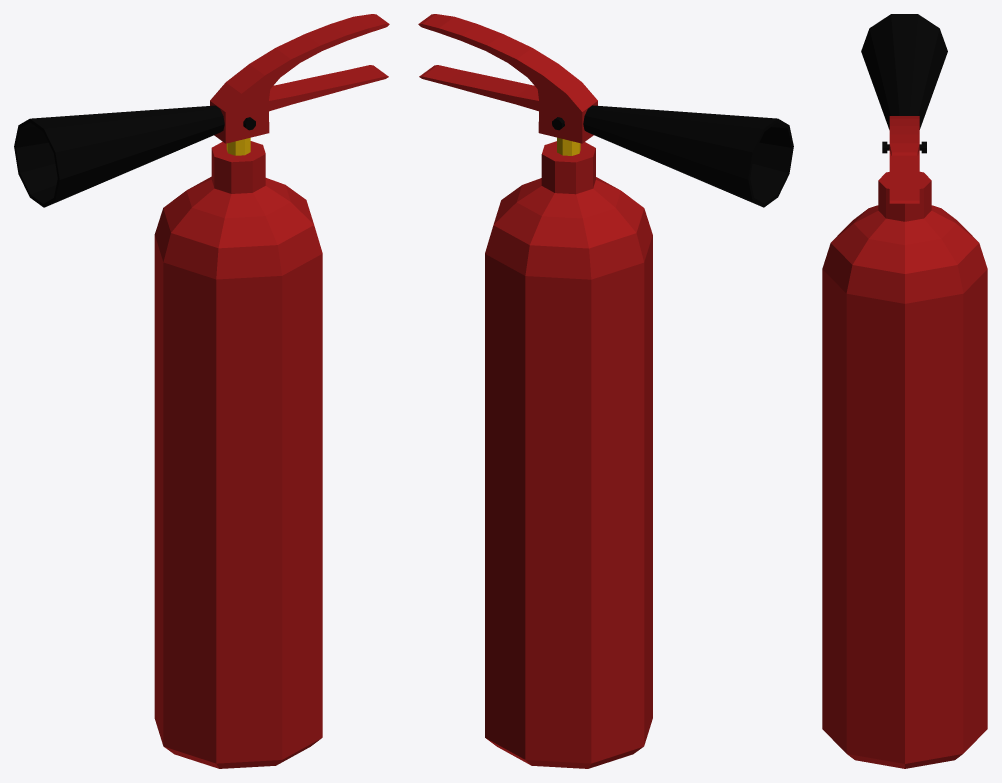
Rendered from fire_safty.fbx.
3 views of the same model, side by side, from view 1: azimuth 30°, elevation 25°; view 2: azimuth 150°, elevation 25°; view 3: azimuth 270°, elevation 25° (orthographic). The views are drawn at different scales.
Visible parts, largest first — view 1: fire_safty; view 2: fire_safty; view 3: fire_safty.
Part boxes in pixels (x1,y1,x2,y2): fire_safty: (14, 14, 389, 768); fire_safty: (418, 14, 793, 768); fire_safty: (822, 14, 987, 768).
Size of the model in its own units: 0.9078 by 1.72 by 0.3951.
